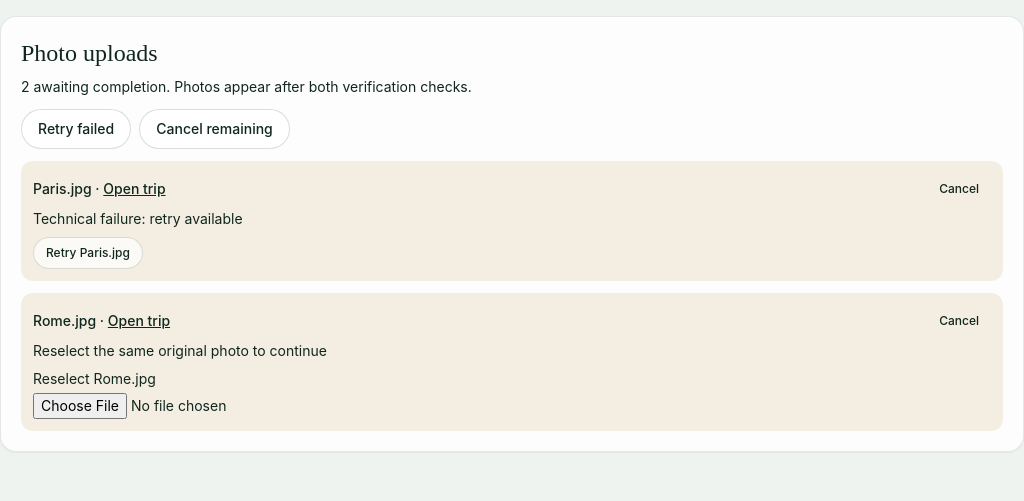
Test case: offers file reselection and retries technical errors through the stable identity
Click the button "Retry Paris.jpg" at coordinates (88, 253), box [33, 237, 143, 269]
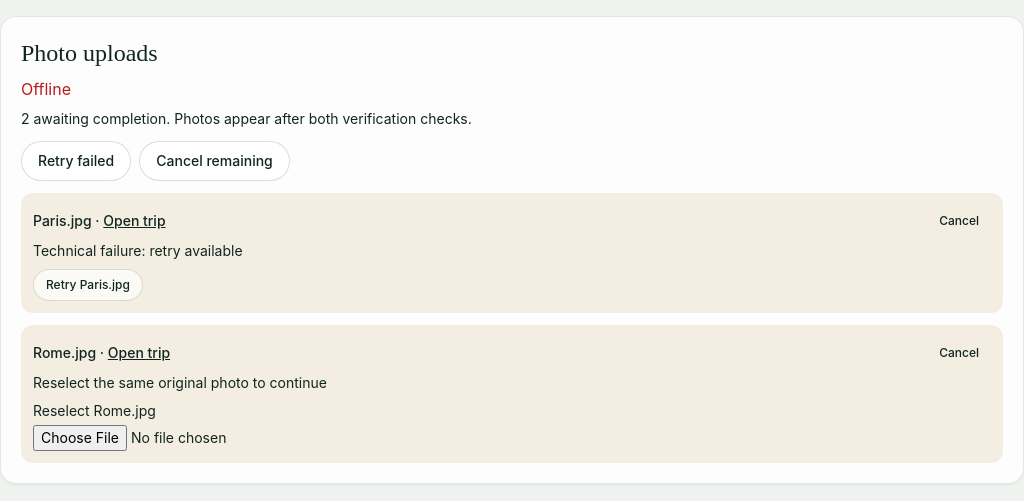
Expected: the message "Offline" is shown, [21, 79, 71, 99]
